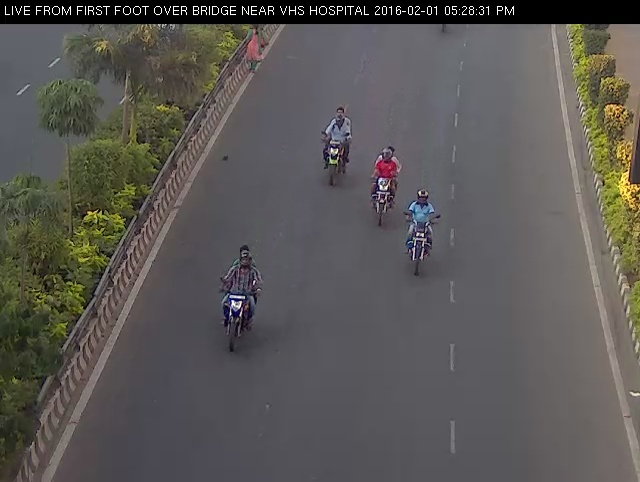Person: (207, 240, 273, 360), (398, 184, 447, 287), (319, 96, 354, 191), (367, 141, 402, 232), (241, 14, 273, 81)
